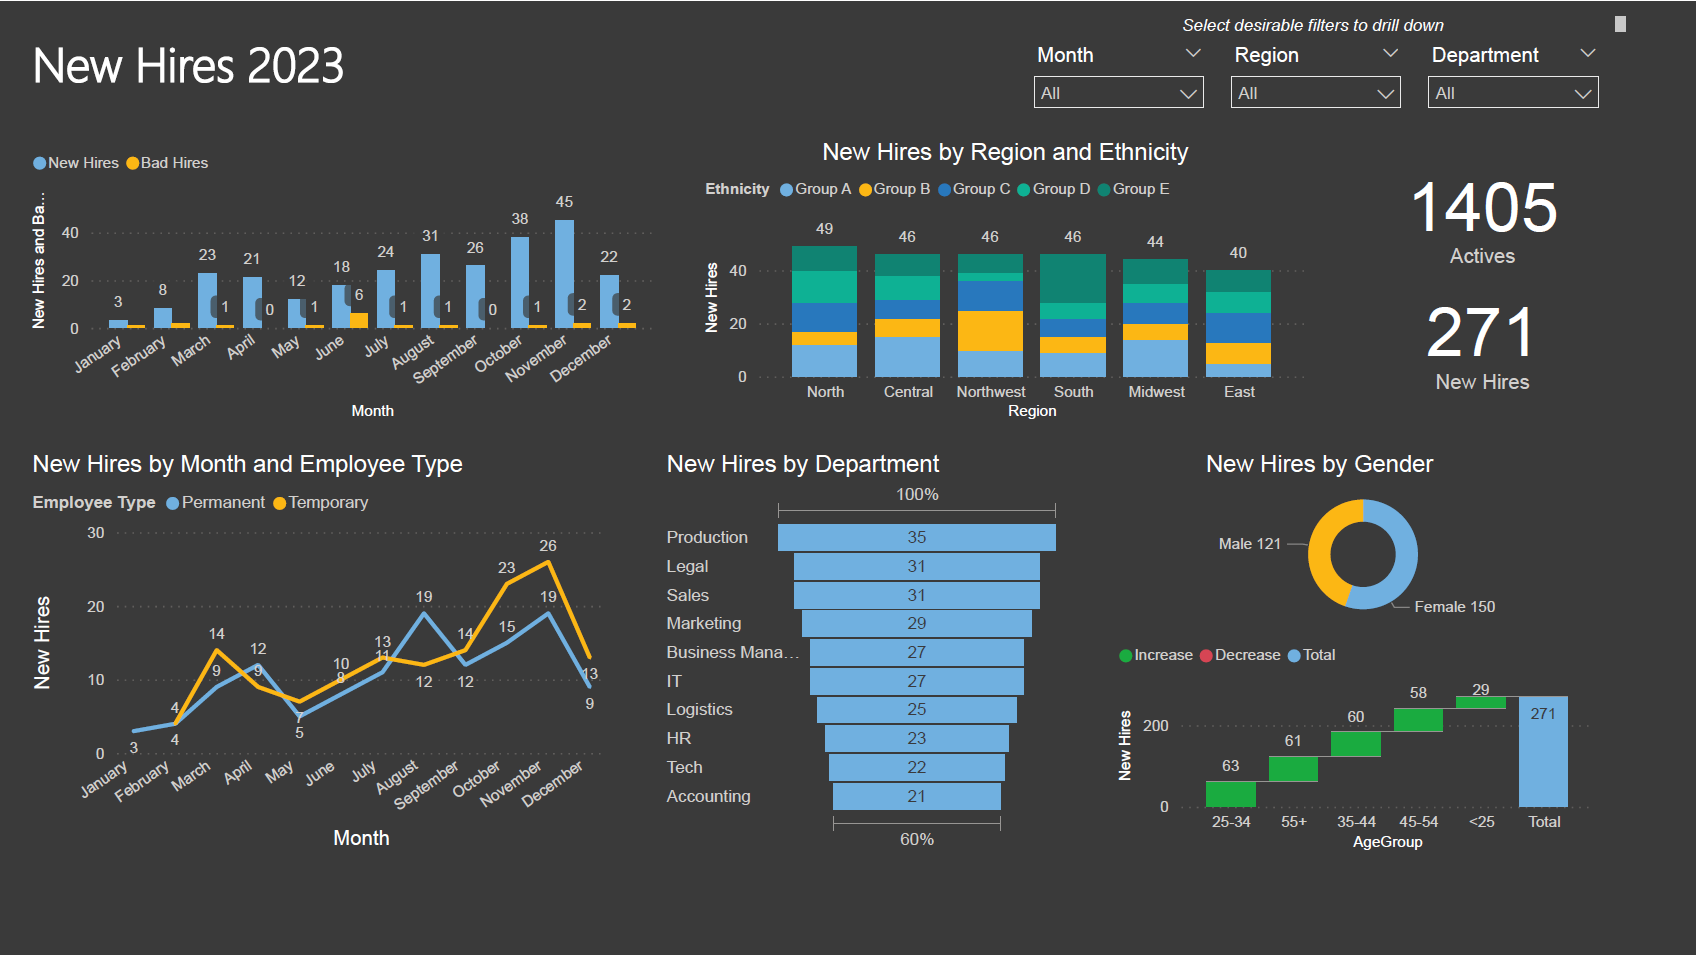

The dashboard page shown, as its layout file describes it:
{"tool":"powerbi","page":{"name":"New Hires","canvas":[1280,720],"ordinal":0},"visuals":[{"type":"textbox","box":[19.5,18.2,416.3,62.2],"z":0},{"type":"lineClusteredColumnComboChart","fields":{"Y":["Reports.New Hires Sum","Sum(Reports.Bad Hires 2023)"],"Category":["Calendar.Date.Variation.Date Hierarchy.Month"]},"box":[19.7,107,497.7,225.5],"z":1000},{"type":"lineChart","fields":{"Y":["Reports.New Hires"],"Category":["Calendar.Date.Variation.Date Hierarchy.Month"],"Series":["Unqiue Employee Type 2.Employee Type 2"]},"box":[19.7,352.2,460.3,317.9],"z":2000},{"type":"waterfallChart","fields":{"Category":["Age Groups.AgeGroup"],"Y":["Reports.New Hires"]},"box":[871.7,493.5,383.4,176.6],"z":3000},{"type":"lineStackedColumnComboChart","fields":{"Category":["Reports.Region"],"Y":["Reports.New Hires Sum"],"Series":["Unqiue Ethnicity.Ethnicity"]},"box":[547.5,107,481,225.5],"z":4000},{"type":"textbox","box":[787.5,6.5,491.5,22],"z":5000},{"type":"donutChart","fields":{"Y":["Reports.New Hires Sum"],"Series":["Reports.Gender"]},"box":[940.3,352.2,256.6,141.3],"z":6000},{"type":"slicer","fields":{"Values":["Calendar.Date.Variation.Date Hierarchy.Month"]},"box":[800.5,28.5,154.3,71.3],"z":7000},{"type":"slicer","fields":{"Values":["Unqiue Regions.Region"]},"box":[954.8,28.5,154.3,71.3],"z":8000},{"type":"slicer","fields":{"Values":["Unqiue Departments.Department"]},"box":[1109.1,28.5,154.3,71.3],"z":9000},{"type":"card","fields":{"Values":["Reports.New Hires"]},"box":[1063.4,215.3,197.1,98.6],"z":10000},{"type":"funnel","fields":{"Category":["Unqiue Departments.Department"],"Y":["Reports.New Hires"]},"box":[517.4,352.2,320,317.9],"z":13000},{"type":"card","fields":{"Values":["Reports.Actives"]},"box":[1063.4,116.7,197.1,98.6],"z":14000}]}

Visuals, with their boxes in screenshot pixels (x1, y1, x2, y2), scaled from the page's 1280x720 canvas onto the 1696x955 screenshot:
textbox: (left=26, top=24, right=577, bottom=107)
lineClusteredColumnComboChart - Reports.New Hires Sum x Sum(Reports.Bad Hires 2023): (left=26, top=142, right=686, bottom=441)
lineChart - Reports.New Hires x Calendar.Date.Variation.Date Hierarchy.Month: (left=26, top=467, right=636, bottom=889)
waterfallChart - Age Groups.AgeGroup x Reports.New Hires: (left=1155, top=655, right=1663, bottom=889)
lineStackedColumnComboChart - Reports.Region x Reports.New Hires Sum: (left=725, top=142, right=1363, bottom=441)
textbox: (left=1043, top=9, right=1695, bottom=38)
donutChart - Reports.New Hires Sum x Reports.Gender: (left=1246, top=467, right=1586, bottom=655)
slicer - Calendar.Date.Variation.Date Hierarchy.Month: (left=1061, top=38, right=1265, bottom=132)
slicer - Unqiue Regions.Region: (left=1265, top=38, right=1470, bottom=132)
slicer - Unqiue Departments.Department: (left=1470, top=38, right=1674, bottom=132)
card - Reports.New Hires: (left=1409, top=286, right=1670, bottom=416)
funnel - Unqiue Departments.Department x Reports.New Hires: (left=686, top=467, right=1110, bottom=889)
card - Reports.Actives: (left=1409, top=155, right=1670, bottom=286)
